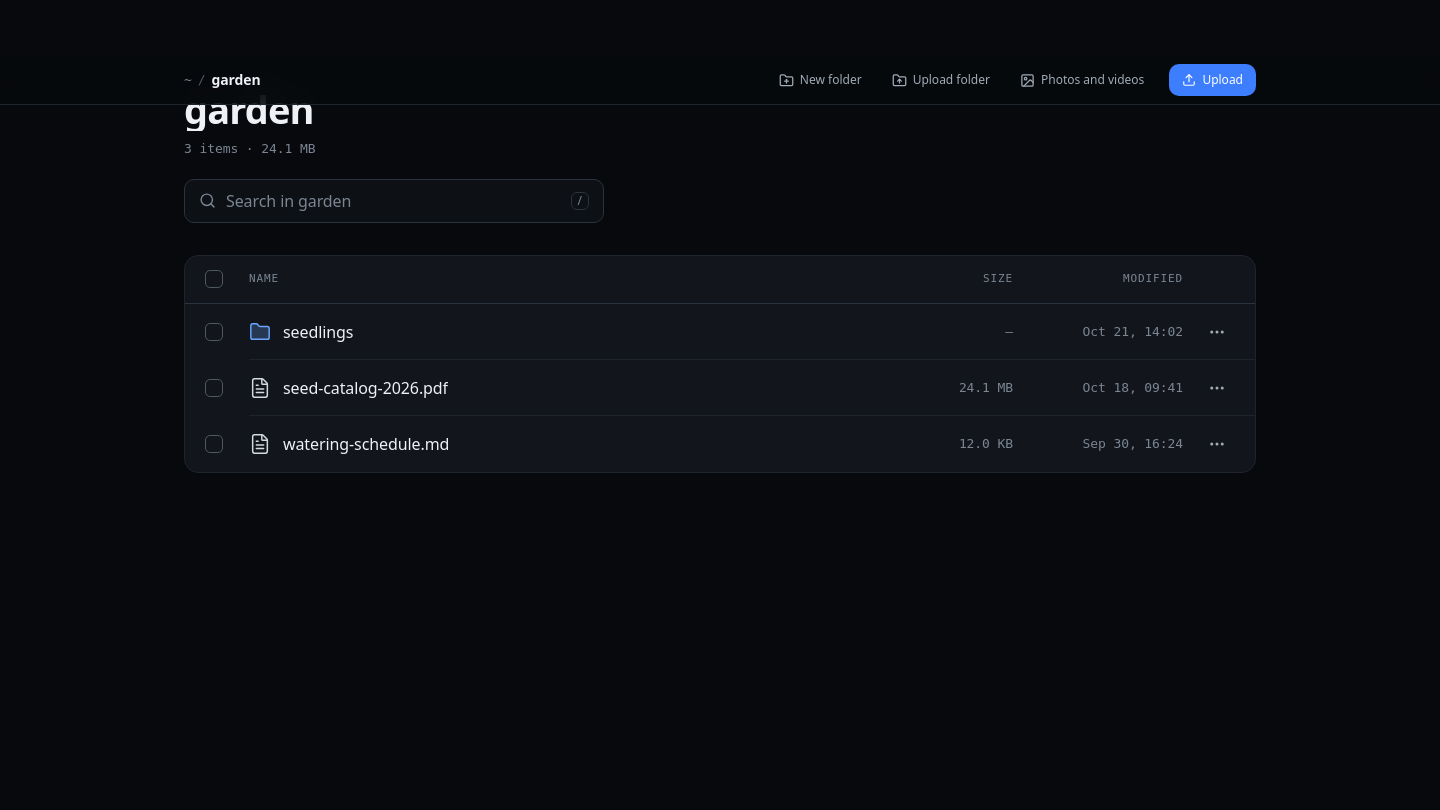
Test: FilesPage › validates new folder names before sending
Expected: the table is shown, [184,255,1256,473]
Step 1. Click the button "New folder" → (820, 80), box [766,64,875,96]
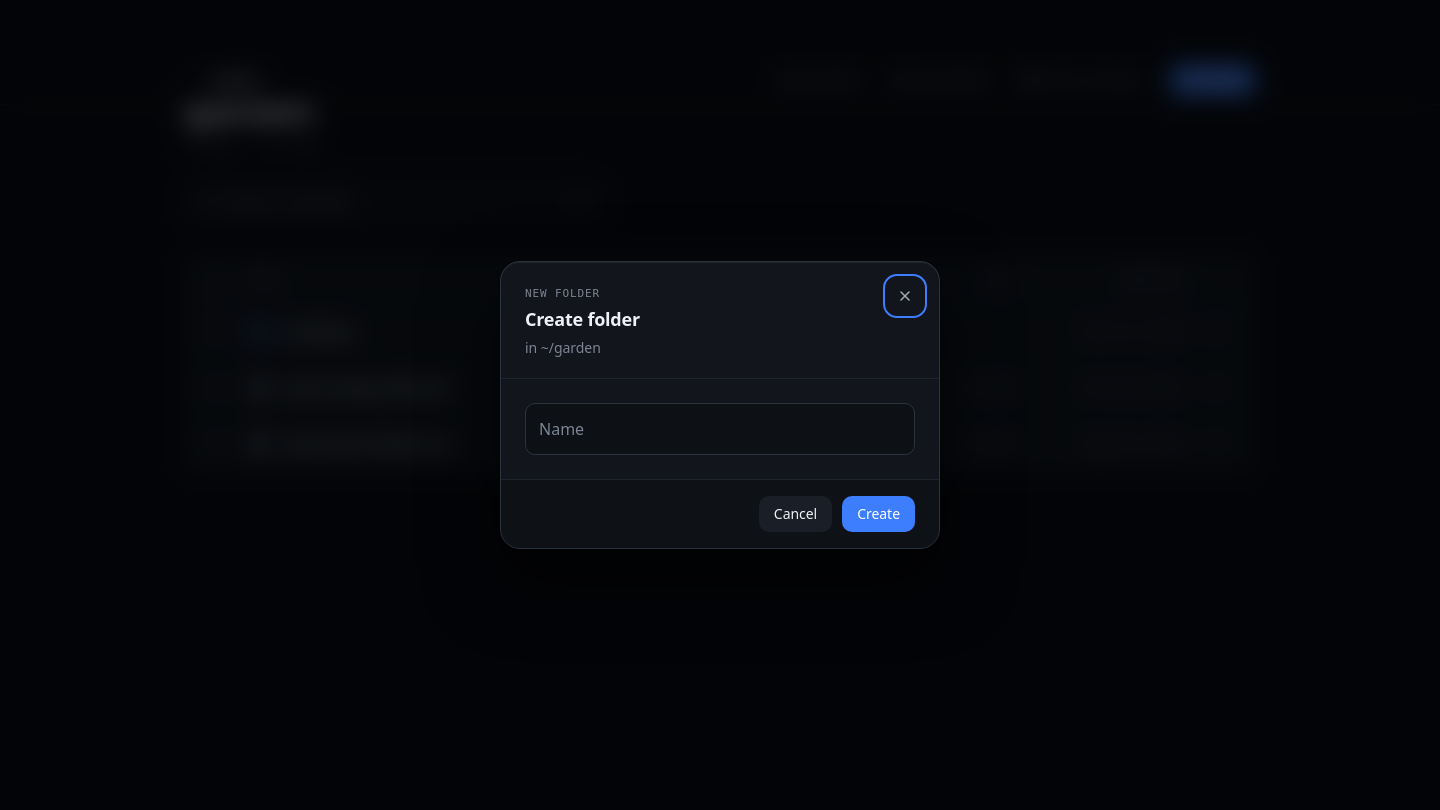
Step 2. Type "a/b" into the field labelled "Name" → (720, 429), box [525,403,915,455]
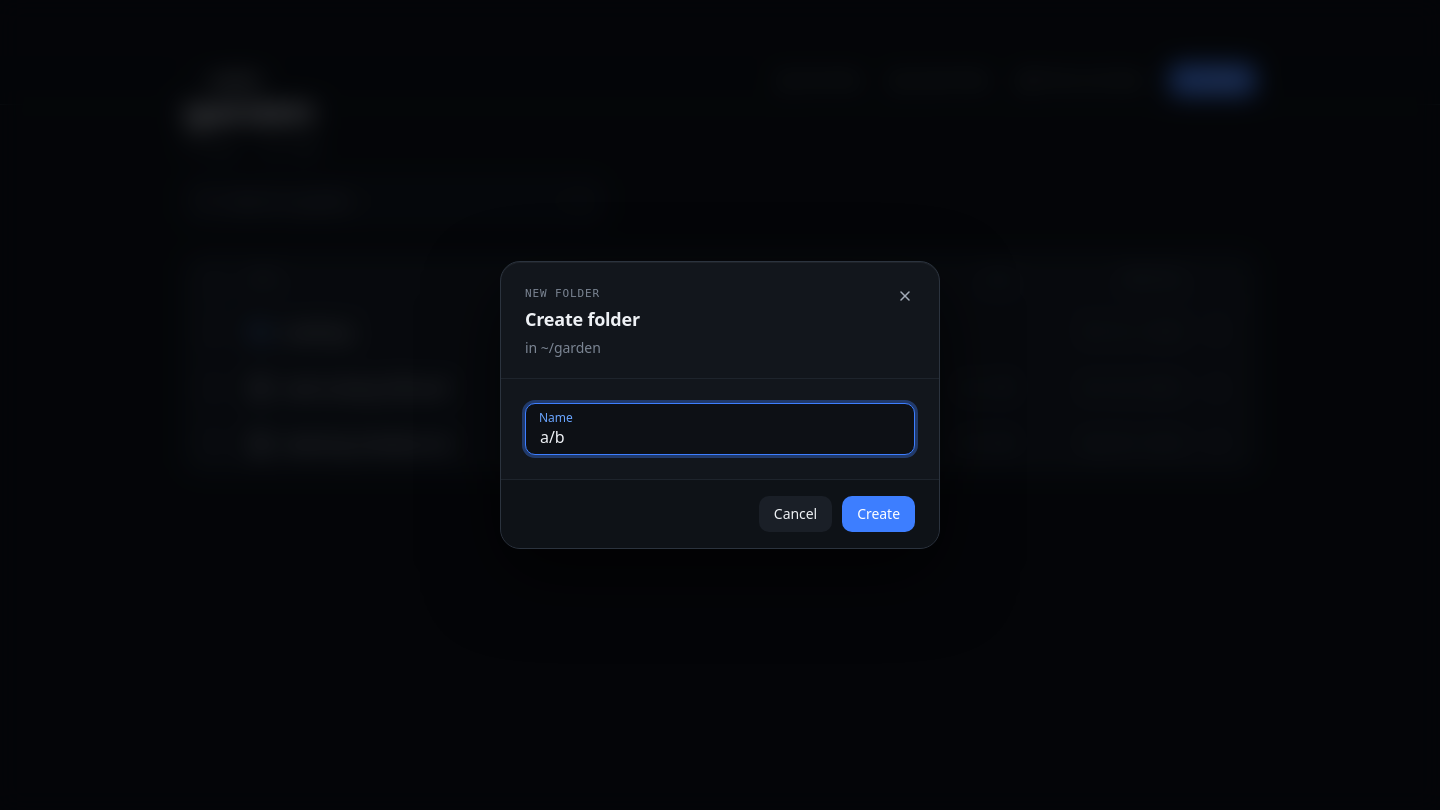
Step 3. Click the button "Create" → (879, 514), box [842,496,915,532]
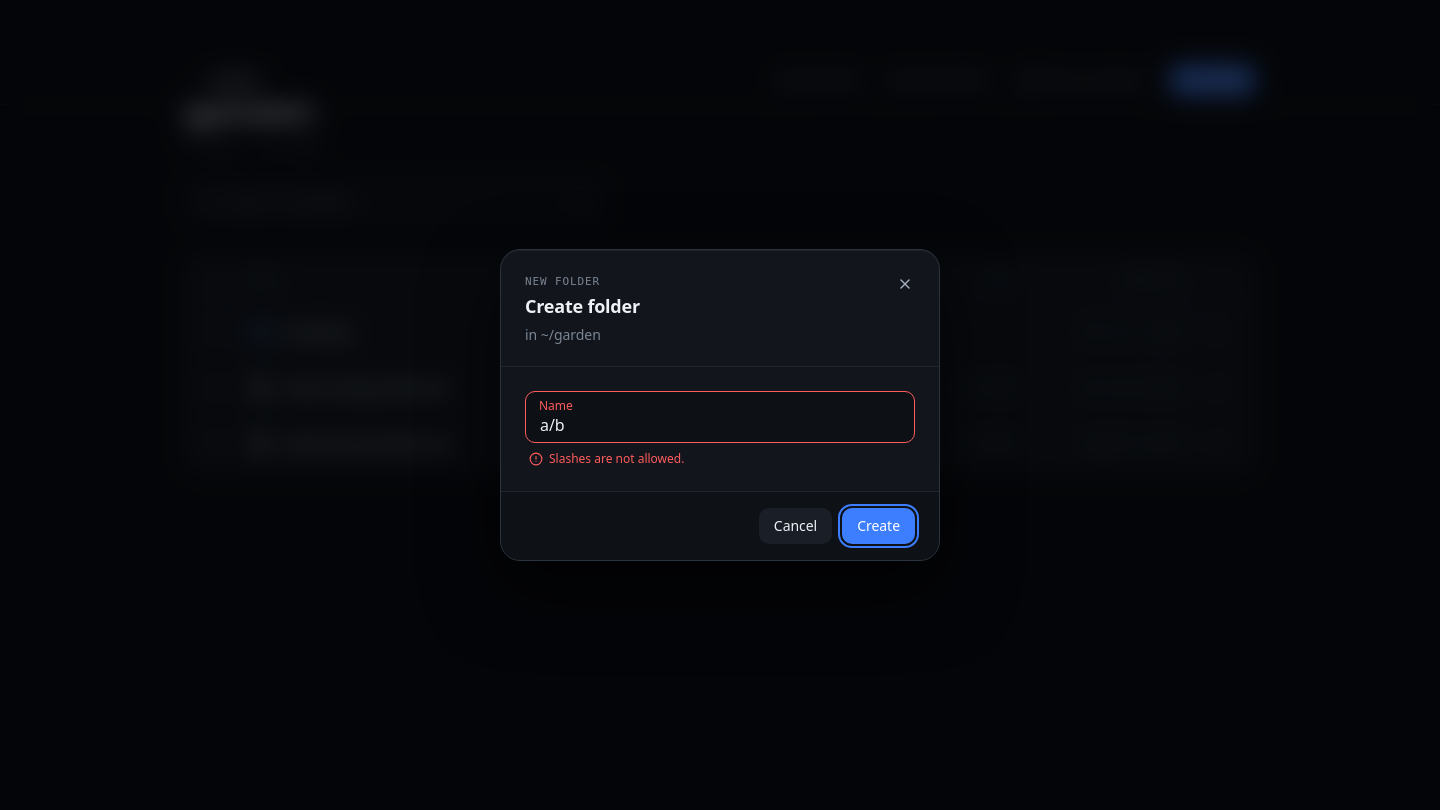
Now the message reads "Slashes are not allowed.", box [549,450,684,467]
